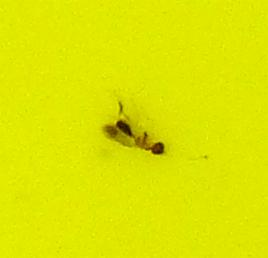Brachycera: (100, 100, 168, 158)
